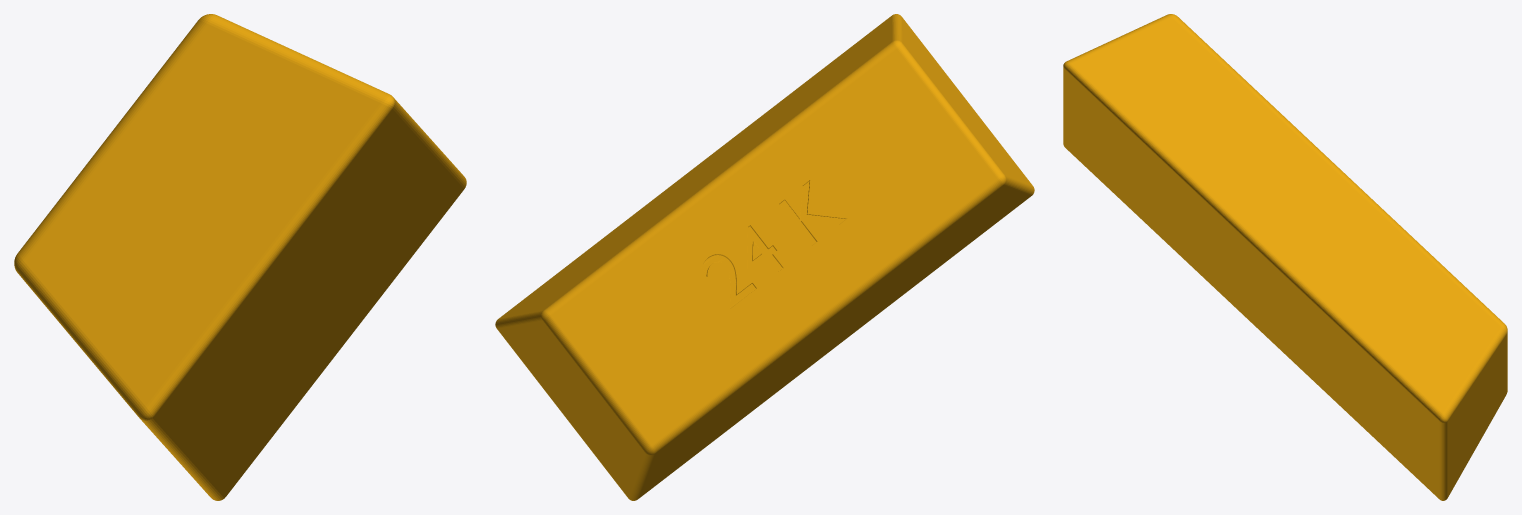
Rendered from barra-ouro.glb.
The picture shows the model from 3 angles, left to right: view 1: azimuth 30°, elevation 25°; view 2: azimuth 150°, elevation 25°; view 3: azimuth 270°, elevation 25°; orthographic projection. The views are drawn at different scales.
Visible parts, largest first — view 1: Object_4; view 2: Object_4; view 3: Object_4.
Part boxes in pixels (<box>): Object_4: <box>14,14,466,500</box>; Object_4: <box>495,14,1034,500</box>; Object_4: <box>1063,14,1507,500</box>.
Size of the model in its own units: 0.954 by 0.954 by 0.9208.
